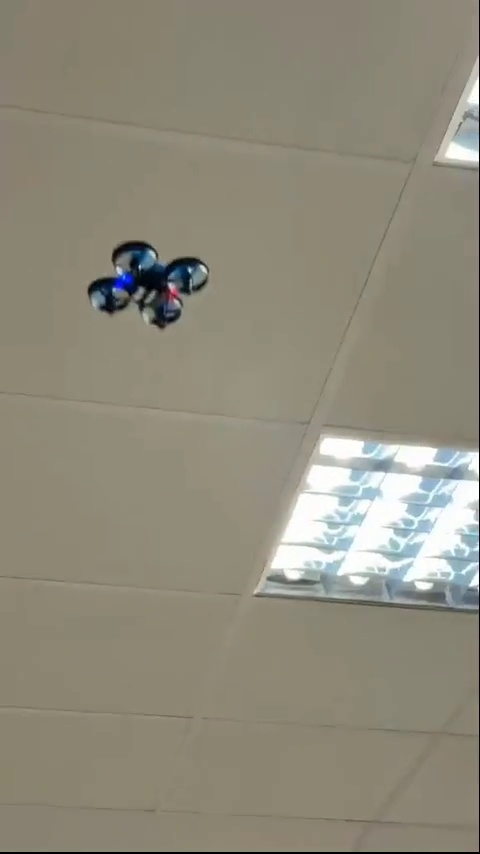drone: (81, 237, 209, 334)
